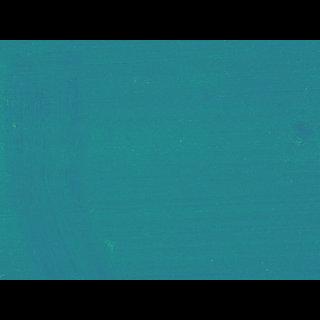Loch: (0, 68, 126, 251), (281, 121, 320, 157)
